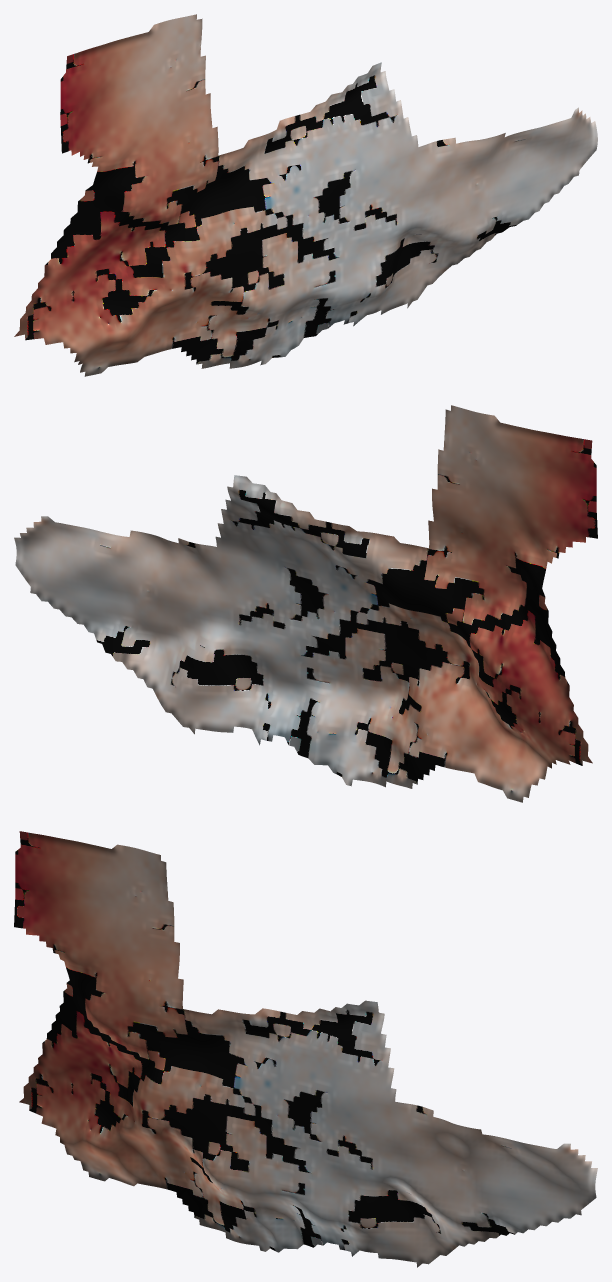
The model's file is tirumala_terrain_los.glb.
The picture shows the model from 3 angles, top to bottom: view 1: azimuth 30°, elevation 25°; view 2: azimuth 150°, elevation 25°; view 3: azimuth 330°, elevation 25°; orthographic projection.
Visible parts, largest first — view 1: Tirumala_Terrain_Mesh; view 2: Tirumala_Terrain_Mesh; view 3: Tirumala_Terrain_Mesh.
Boxes of the visible parts, left/top/right/bottom form: Tirumala_Terrain_Mesh: left=14, top=14, right=597, bottom=376; Tirumala_Terrain_Mesh: left=14, top=405, right=597, bottom=802; Tirumala_Terrain_Mesh: left=14, top=831, right=597, bottom=1267.
Size of the model in its own units: 8560 by 5440 by 719.
Materials: 1 (1 with a texture image).
